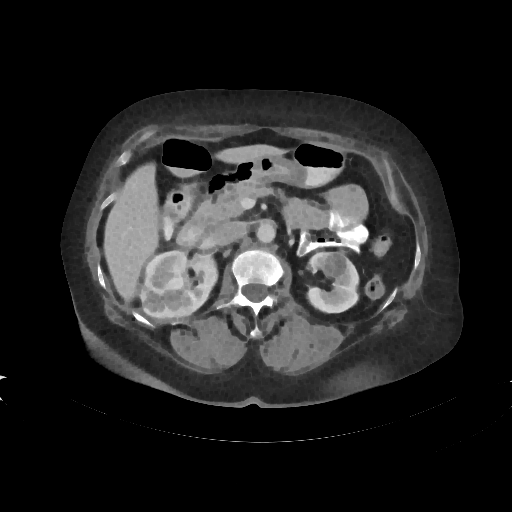Lesion: (324, 248, 349, 282)
